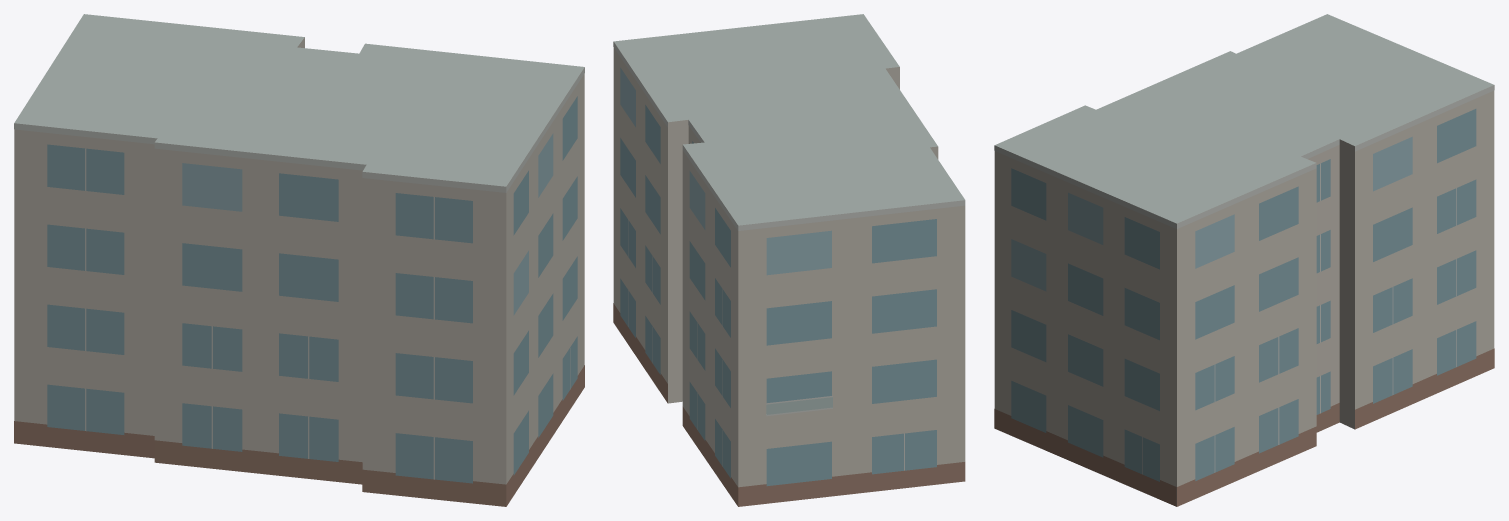
File: survey-upis-32658667.glb
The picture shows the model from 3 angles, left to right: view 1: azimuth 30°, elevation 25°; view 2: azimuth 150°, elevation 25°; view 3: azimuth 270°, elevation 25°; orthographic projection. The views are drawn at different scales.
Parts seen in each view (by area): view 1: survey-upis-32658667.tmp; view 2: survey-upis-32658667.tmp; view 3: survey-upis-32658667.tmp.
Part boxes in pixels (bbox=[...]): survey-upis-32658667.tmp: bbox=[14, 14, 584, 506]; survey-upis-32658667.tmp: bbox=[613, 14, 965, 506]; survey-upis-32658667.tmp: bbox=[994, 14, 1494, 506].
Bounding box in the file's own units: 19.99 × 12.59 × 20.15.
